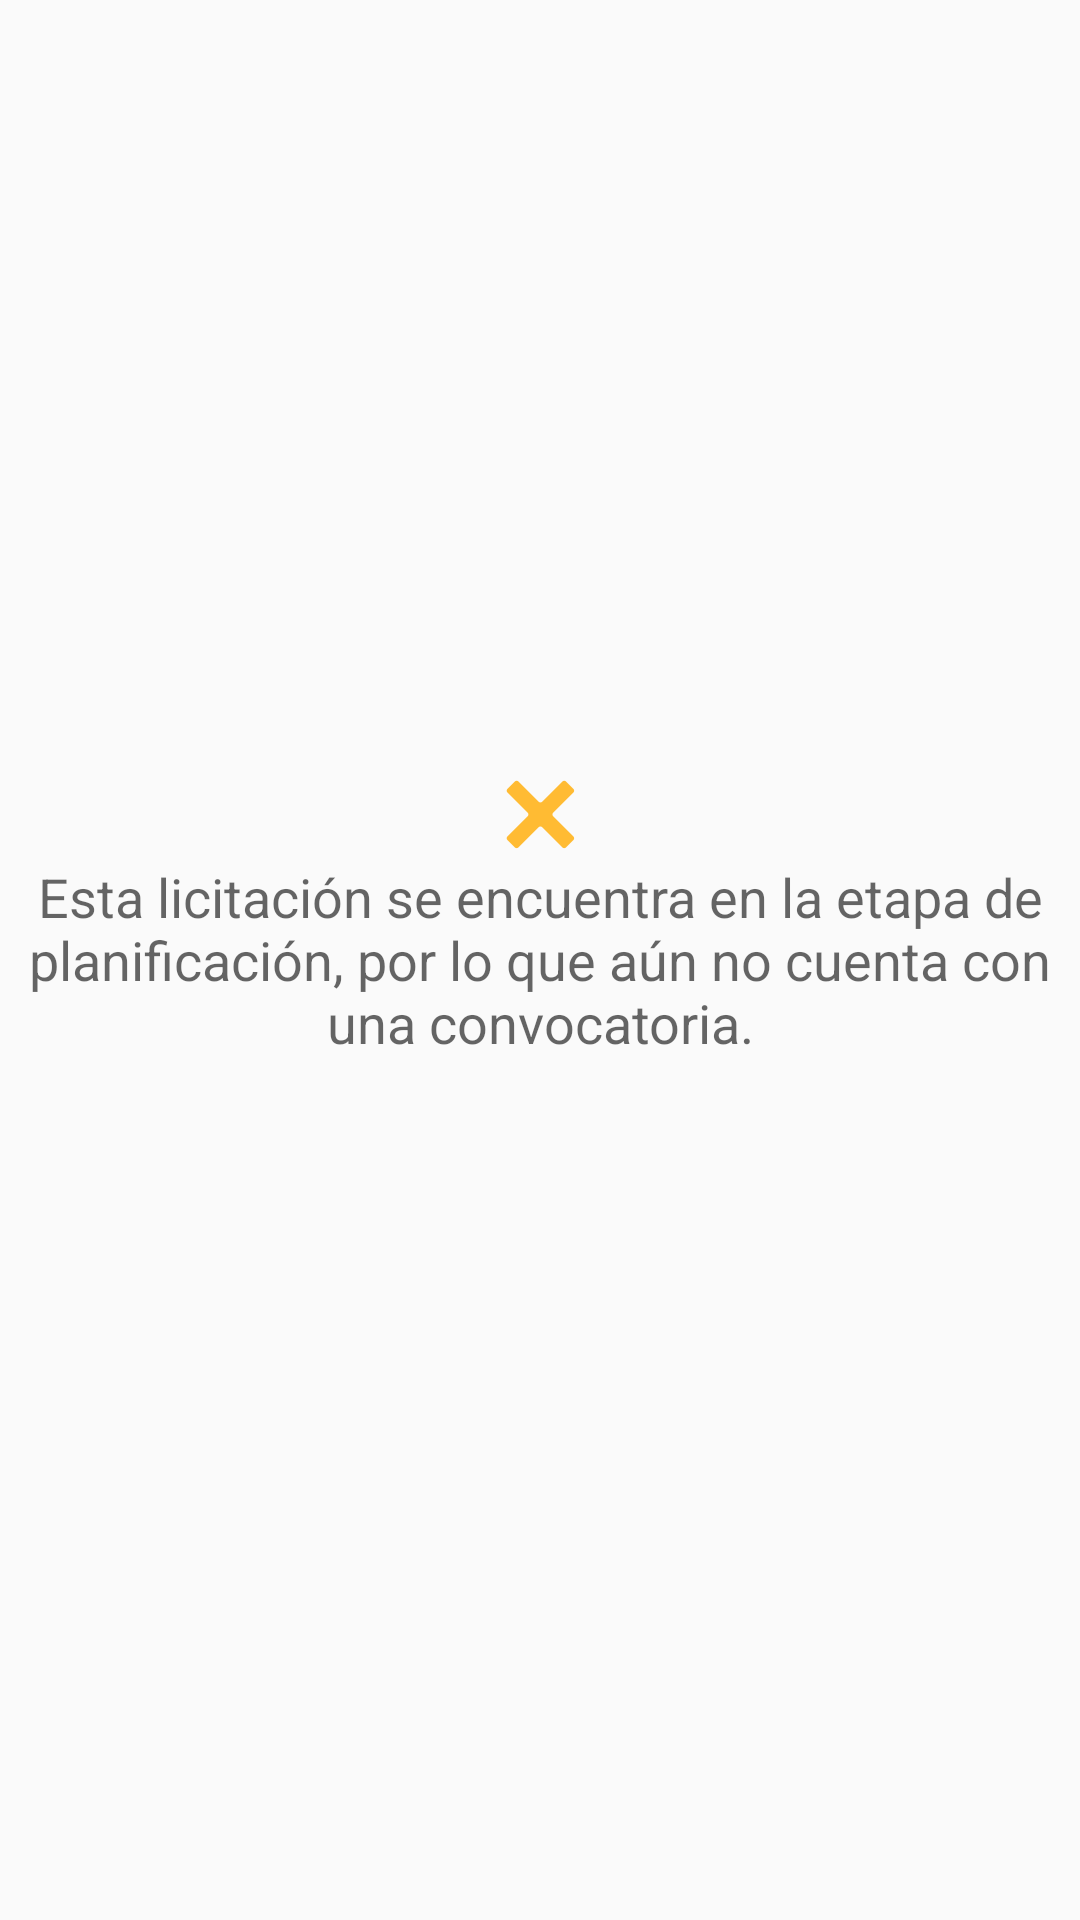

Icons on this 1080w x 1920h Android screen, each with its box as box=[x1, y1, x2, y2]:
cross: box=[506, 780, 574, 848]
